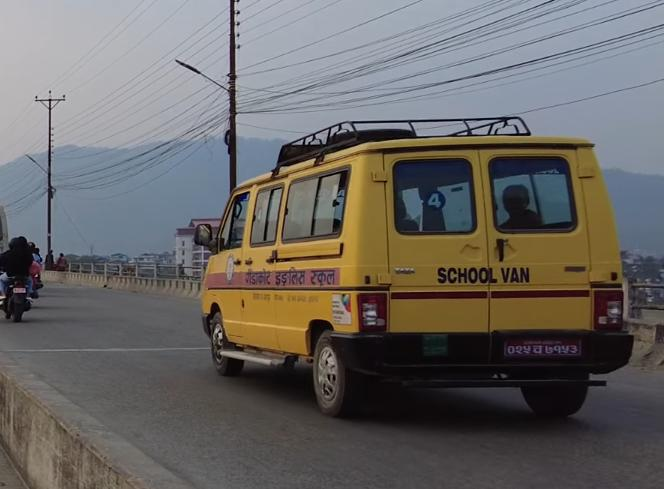bike: (0, 263, 34, 326)
school_bus: (189, 109, 636, 420)
